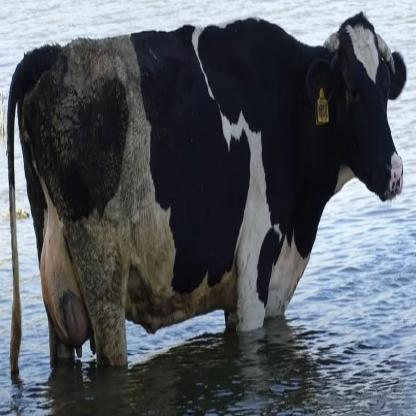cow: (7, 12, 406, 385)
